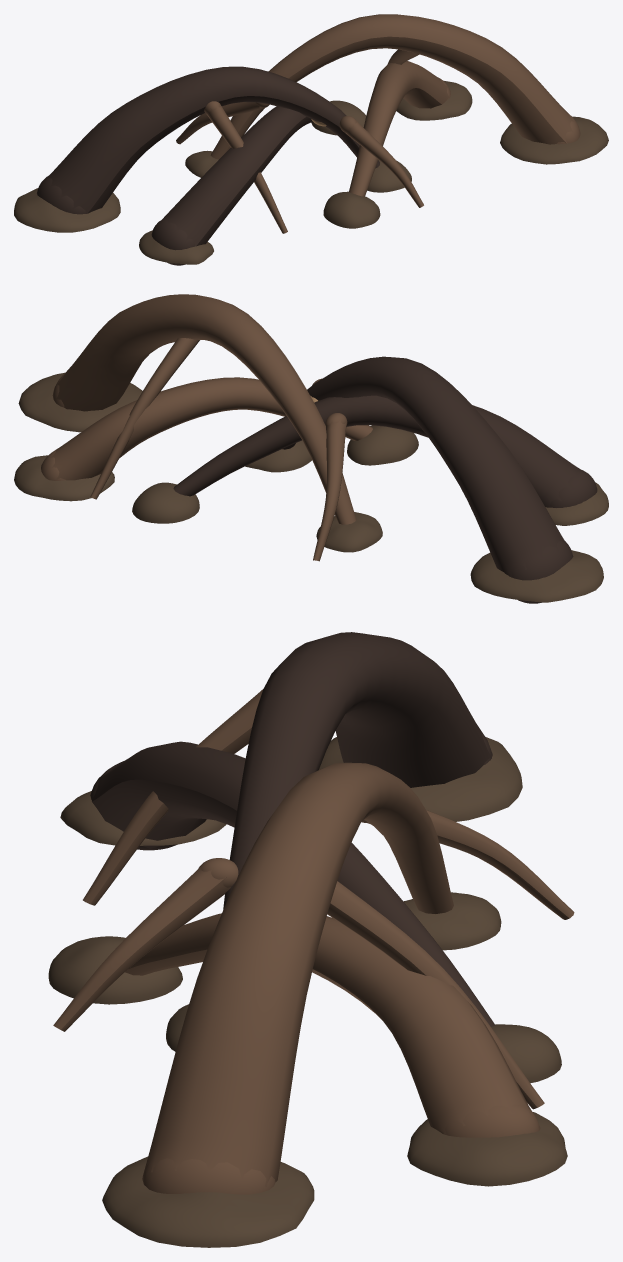
The model's file is detail_root_tangle.glb.
3 renders of one model, top to bottom at view 1: azimuth 30°, elevation 25°; view 2: azimuth 150°, elevation 25°; view 3: azimuth 270°, elevation 25°, orthographic. The views are drawn at different scales.
Parts seen in each view (by area): view 1: wood; view 2: wood; view 3: wood.
Part boxes in pixels (<box>): wood: <box>14,14,608,265</box>; wood: <box>14,294,608,603</box>; wood: <box>48,632,574,1247</box>.
Size of the model in its own units: 2.8 by 0.8 by 1.2.
